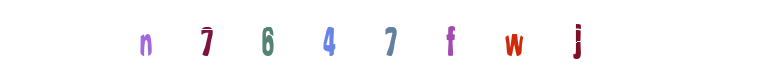4: (291, 0, 371, 80)
6: (278, 0, 358, 80)
7: (277, 0, 357, 80), (345, 0, 425, 80)
F: (354, 0, 434, 80)
J: (474, 0, 554, 80)
N: (268, 0, 348, 80)
W: (404, 0, 484, 80)
